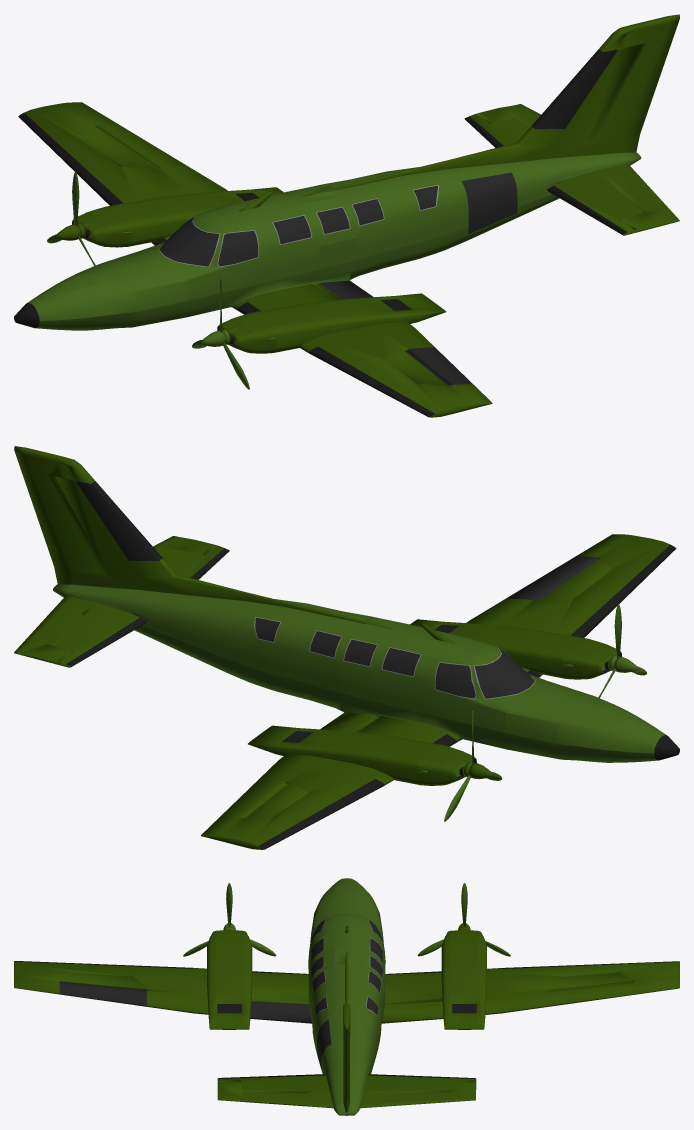
Rendered from cessna.fbx.
3 renders of one model, top to bottom at view 1: azimuth 30°, elevation 25°; view 2: azimuth 150°, elevation 25°; view 3: azimuth 270°, elevation 25°, orthographic. The views are drawn at different scales.
Parts seen in each view (by area): view 1: fuselage, wings, engine, tail, fuslage2, deicing, rudder, glass, elevator, rflaps, access, flaps (+8 smaller); view 2: fuselage, wings, engine, fuslage2, tail, deicing, glass, rudder, elevator, rflaps, access, flaps2 (+3 smaller); view 3: wings, fuselage, engine, rflaps, elevator, flaps2, flaps, glass, deicing, access, rudder, vents2 (+5 smaller).
Boxes of the visible parts, bbox=[...] form: fuselage: bbox=[27, 152, 641, 321]; wings: bbox=[24, 102, 492, 417]; engine: bbox=[77, 187, 446, 353]; tail: bbox=[302, 14, 679, 196]; fuslage2: bbox=[35, 159, 640, 330]; deicing: bbox=[18, 49, 627, 417]; rudder: bbox=[586, 18, 679, 142]; glass: bbox=[159, 185, 437, 266]; elevator: bbox=[465, 114, 679, 235]; rflaps: bbox=[476, 104, 679, 230]; access: bbox=[107, 198, 326, 348]; flaps: bbox=[319, 280, 472, 385]; fuselage: bbox=[53, 584, 665, 753]; wings: bbox=[201, 534, 670, 849]; engine: bbox=[248, 619, 616, 785]; fuslage2: bbox=[53, 591, 658, 762]; tail: bbox=[14, 446, 391, 628]; deicing: bbox=[66, 481, 676, 849]; glass: bbox=[255, 617, 534, 698]; rudder: bbox=[14, 450, 107, 574]; elevator: bbox=[14, 546, 229, 667]; rflaps: bbox=[14, 536, 218, 662]; access: bbox=[367, 630, 586, 780]; flaps2: bbox=[221, 712, 374, 817]; wings: bbox=[14, 961, 679, 1014]; fuselage: bbox=[308, 878, 385, 1115]; engine: bbox=[207, 930, 486, 1029]; rflaps: bbox=[217, 1080, 476, 1108]; elevator: bbox=[217, 1075, 476, 1106]; flaps2: bbox=[381, 981, 634, 1023]; flaps: bbox=[59, 981, 312, 1023]; glass: bbox=[310, 920, 383, 1015]; deicing: bbox=[14, 961, 679, 1078]; access: bbox=[207, 942, 486, 968]; rudder: bbox=[343, 1015, 350, 1100]; vents2: bbox=[217, 1004, 476, 1013].
Bounding box in the file's own units: 41.2 × 10.24 × 44.3.
